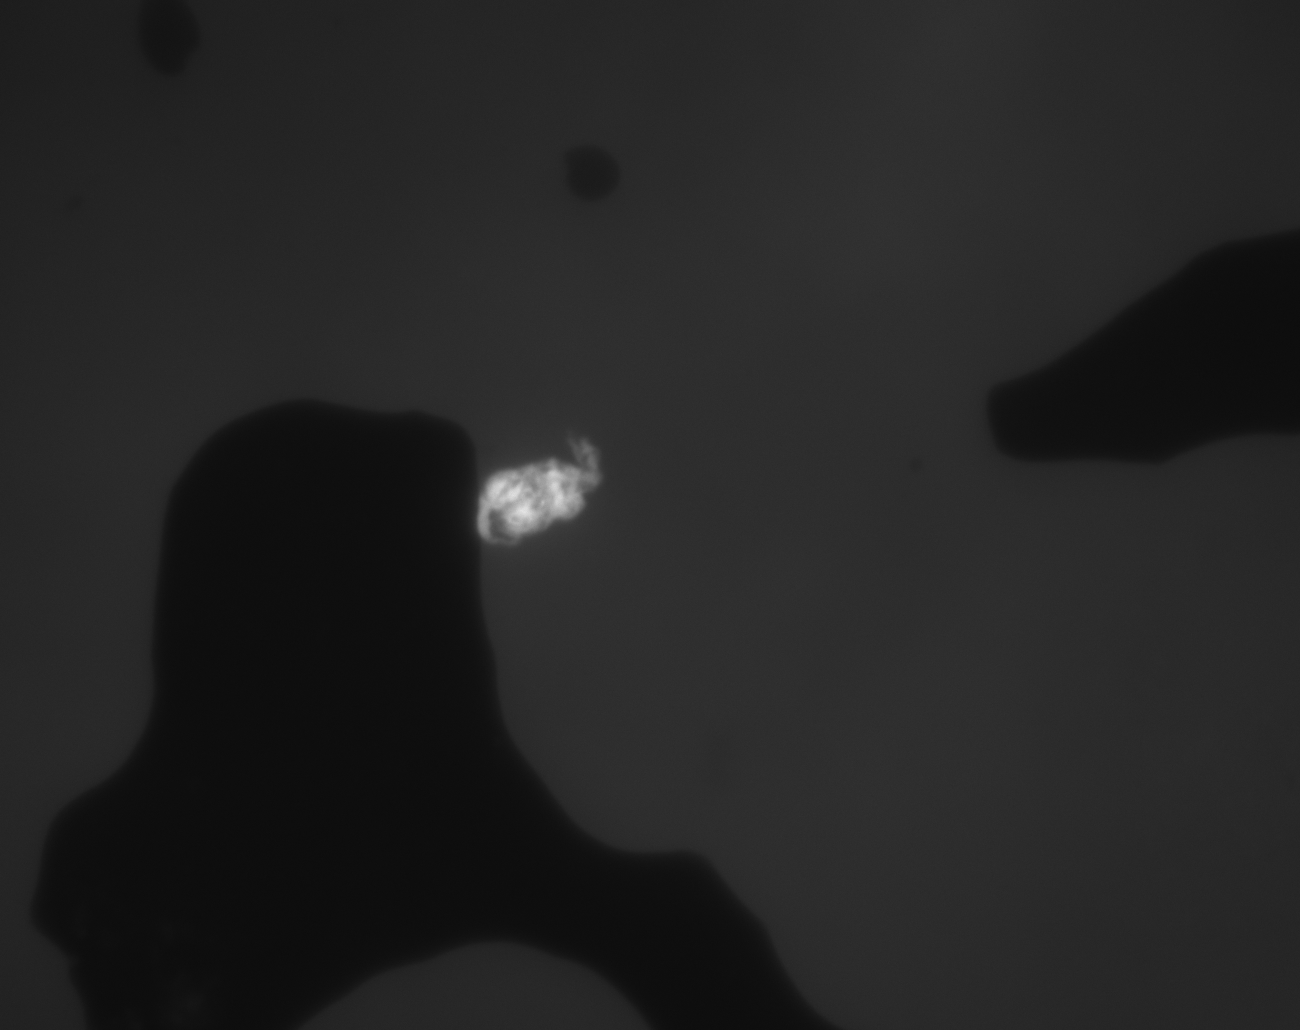Others: (20, 371, 677, 966), (920, 214, 1300, 530), (546, 846, 970, 1030), (244, 892, 780, 1022), (437, 425, 622, 570)
